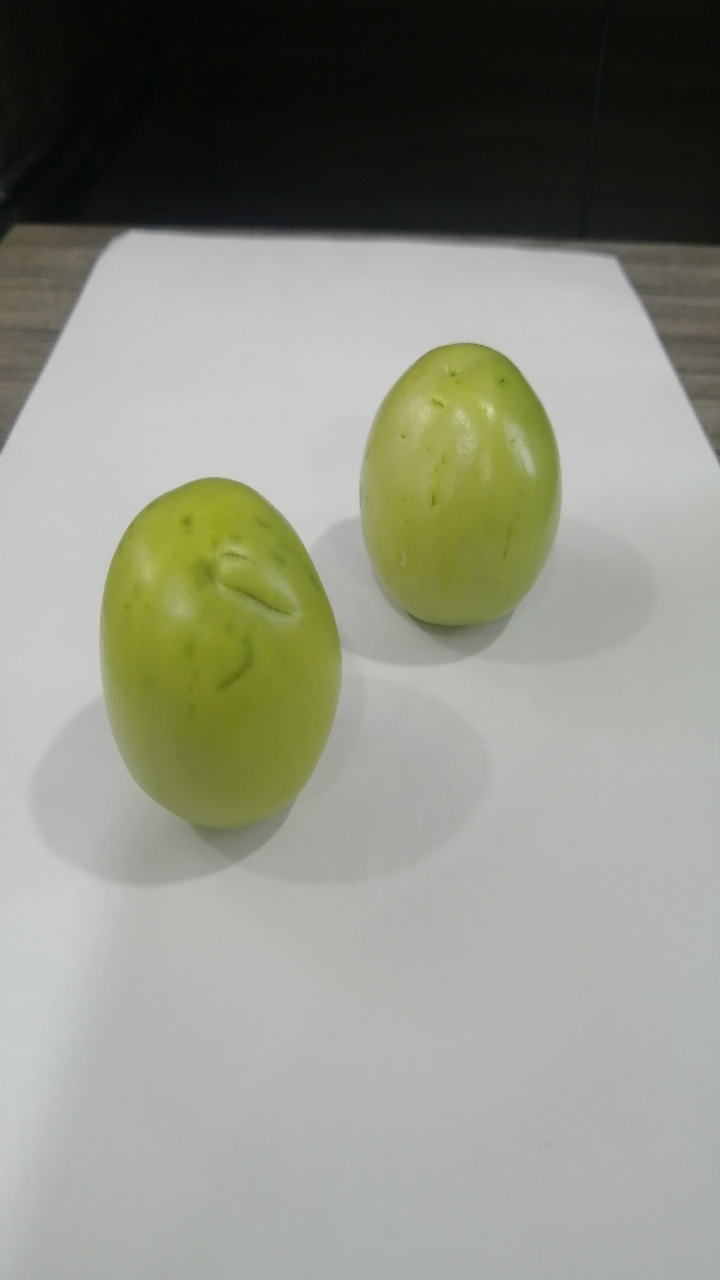tomateVerde: (83, 460, 361, 860), (335, 314, 574, 652)
